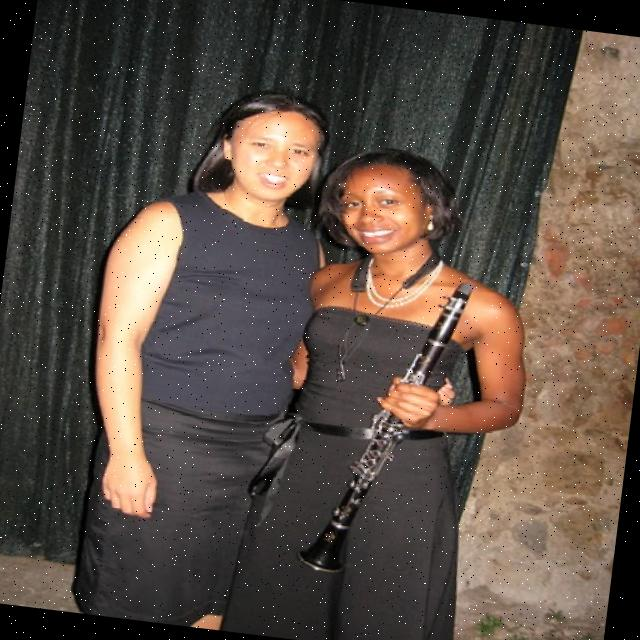clarinet: (294, 262, 476, 588)
